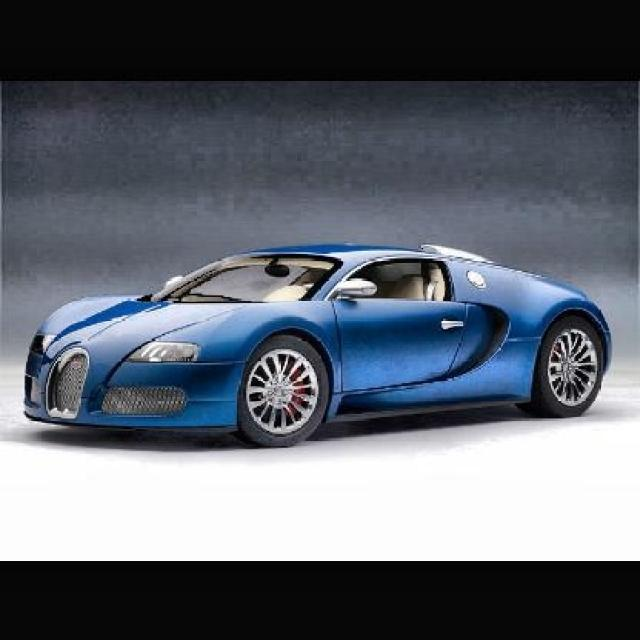blue: (21, 247, 615, 441)
